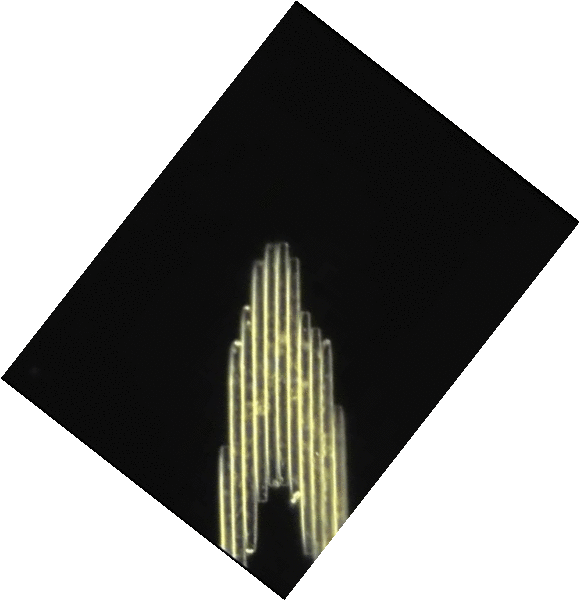bacilleria: (241, 305, 259, 555), (285, 258, 303, 506), (228, 341, 247, 566), (251, 260, 267, 503), (264, 244, 279, 489), (310, 328, 325, 557), (278, 241, 291, 489), (300, 309, 313, 557), (320, 341, 336, 542), (333, 403, 350, 527), (218, 445, 232, 553)
